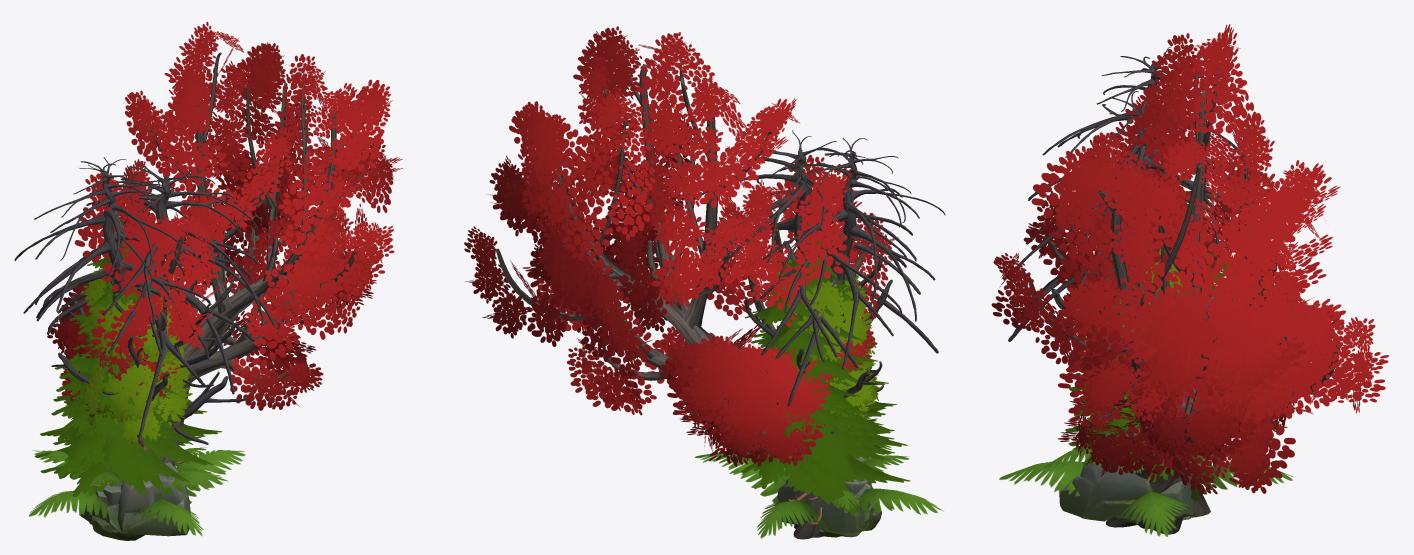
Rendered from natureza.glb.
The picture shows the model from 3 angles, left to right: view 1: azimuth 30°, elevation 25°; view 2: azimuth 150°, elevation 25°; view 3: azimuth 270°, elevation 25°; orthographic projection. The views are drawn at different scales.
Visible parts, largest first — view 1: TwistedTree_1, DeadTree_4, DeadTree_3, Fern_1, Pine_4, CommonTree_3, CommonTree_2, Pine_5, Pine_2, DeadTree_1, Rock_Medium_3, Rock_Medium_1 (+2 smaller); view 2: TwistedTree_1, Pine_5, DeadTree_3, DeadTree_4, Pine_4, Fern_1, CommonTree_3, Rock_Medium_2, Pine_2, DeadTree_1, CommonTree_4, CommonTree_2 (+1 smaller); view 3: TwistedTree_1, Fern_1, Rock_Medium_3, DeadTree_4, DeadTree_3, Rock_Medium_2, Pine_2, Pine_5.
Part boxes in pixels (x1,y1,x2,y2): TwistedTree_1: (47, 21, 403, 524); DeadTree_4: (35, 161, 274, 442); DeadTree_3: (14, 157, 210, 359); Fern_1: (29, 447, 245, 536); Pine_4: (40, 241, 194, 486); CommonTree_3: (84, 279, 190, 425); CommonTree_2: (80, 336, 192, 450); Pine_5: (34, 313, 222, 491); Pine_2: (40, 348, 201, 496); DeadTree_1: (51, 258, 246, 444); Rock_Medium_3: (92, 462, 190, 540); Rock_Medium_1: (88, 479, 154, 533); TwistedTree_1: (464, 26, 898, 539); Pine_5: (744, 286, 899, 507); DeadTree_3: (760, 137, 945, 372); DeadTree_4: (691, 130, 938, 537); Pine_4: (753, 236, 907, 524); Fern_1: (694, 444, 943, 538); CommonTree_3: (779, 258, 878, 416); Rock_Medium_2: (775, 478, 869, 535); Pine_2: (741, 351, 910, 516); DeadTree_1: (709, 241, 892, 433); CommonTree_4: (767, 260, 866, 372); CommonTree_2: (776, 325, 882, 427); TwistedTree_1: (991, 24, 1388, 534); Fern_1: (999, 438, 1293, 536); Rock_Medium_3: (1059, 454, 1152, 521); DeadTree_4: (1003, 91, 1274, 528); DeadTree_3: (1042, 46, 1252, 309); Rock_Medium_2: (1160, 473, 1195, 518); Pine_2: (1065, 407, 1229, 479); Pine_5: (1068, 243, 1287, 481).
Bounding box in the file's own units: 15.76 × 16.86 × 11.55.
Materials: 12 (12 with a texture image).
